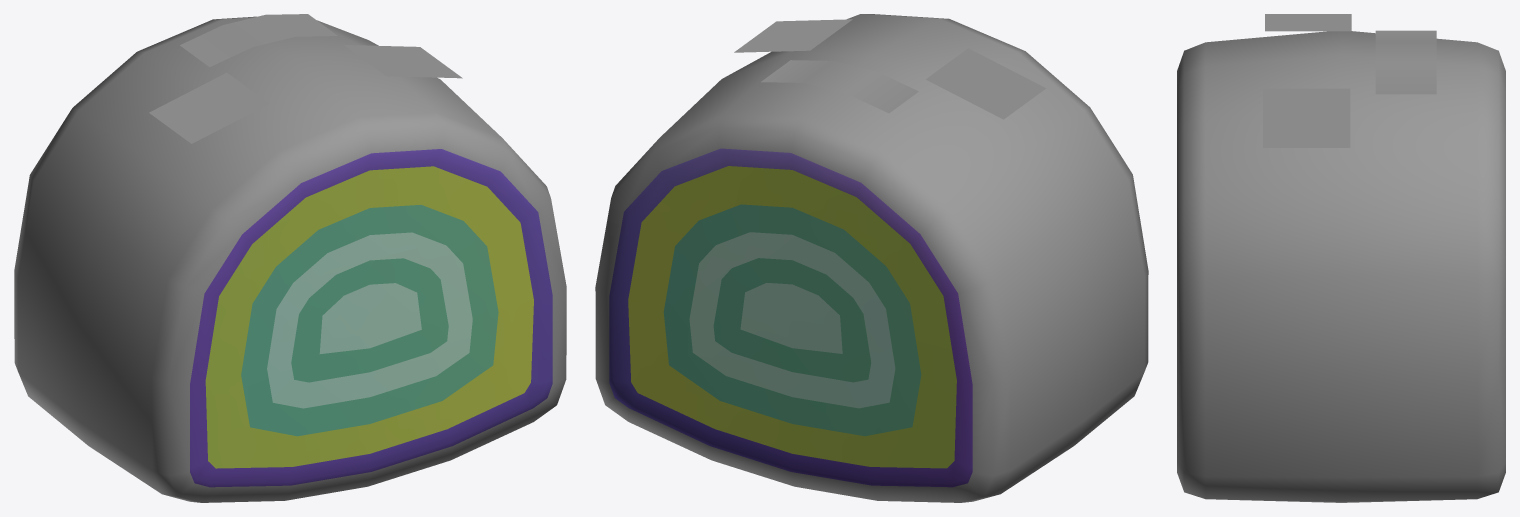
File: rahat_lokum_violet.fbx
3 views of the same model, side by side, from view 1: azimuth 30°, elevation 25°; view 2: azimuth 150°, elevation 25°; view 3: azimuth 270°, elevation 25° (orthographic).
Visible parts, largest first — view 1: coconut_flakes, rahat_lokum_violet, smile; view 2: coconut_flakes, rahat_lokum_violet, smile; view 3: coconut_flakes, smile.
Part boxes in pixels (box(x1,y1,x2,y2)): coconut_flakes: box(14, 16, 566, 502); rahat_lokum_violet: box(190, 149, 552, 487); smile: box(149, 14, 462, 143); coconut_flakes: box(595, 14, 1148, 502); rahat_lokum_violet: box(609, 148, 972, 487); smile: box(734, 19, 1045, 119); coconut_flakes: box(1177, 31, 1505, 502); smile: box(1263, 14, 1436, 147).
Bounding box in the file's own units: 27.06 × 23.23 × 17.81.
